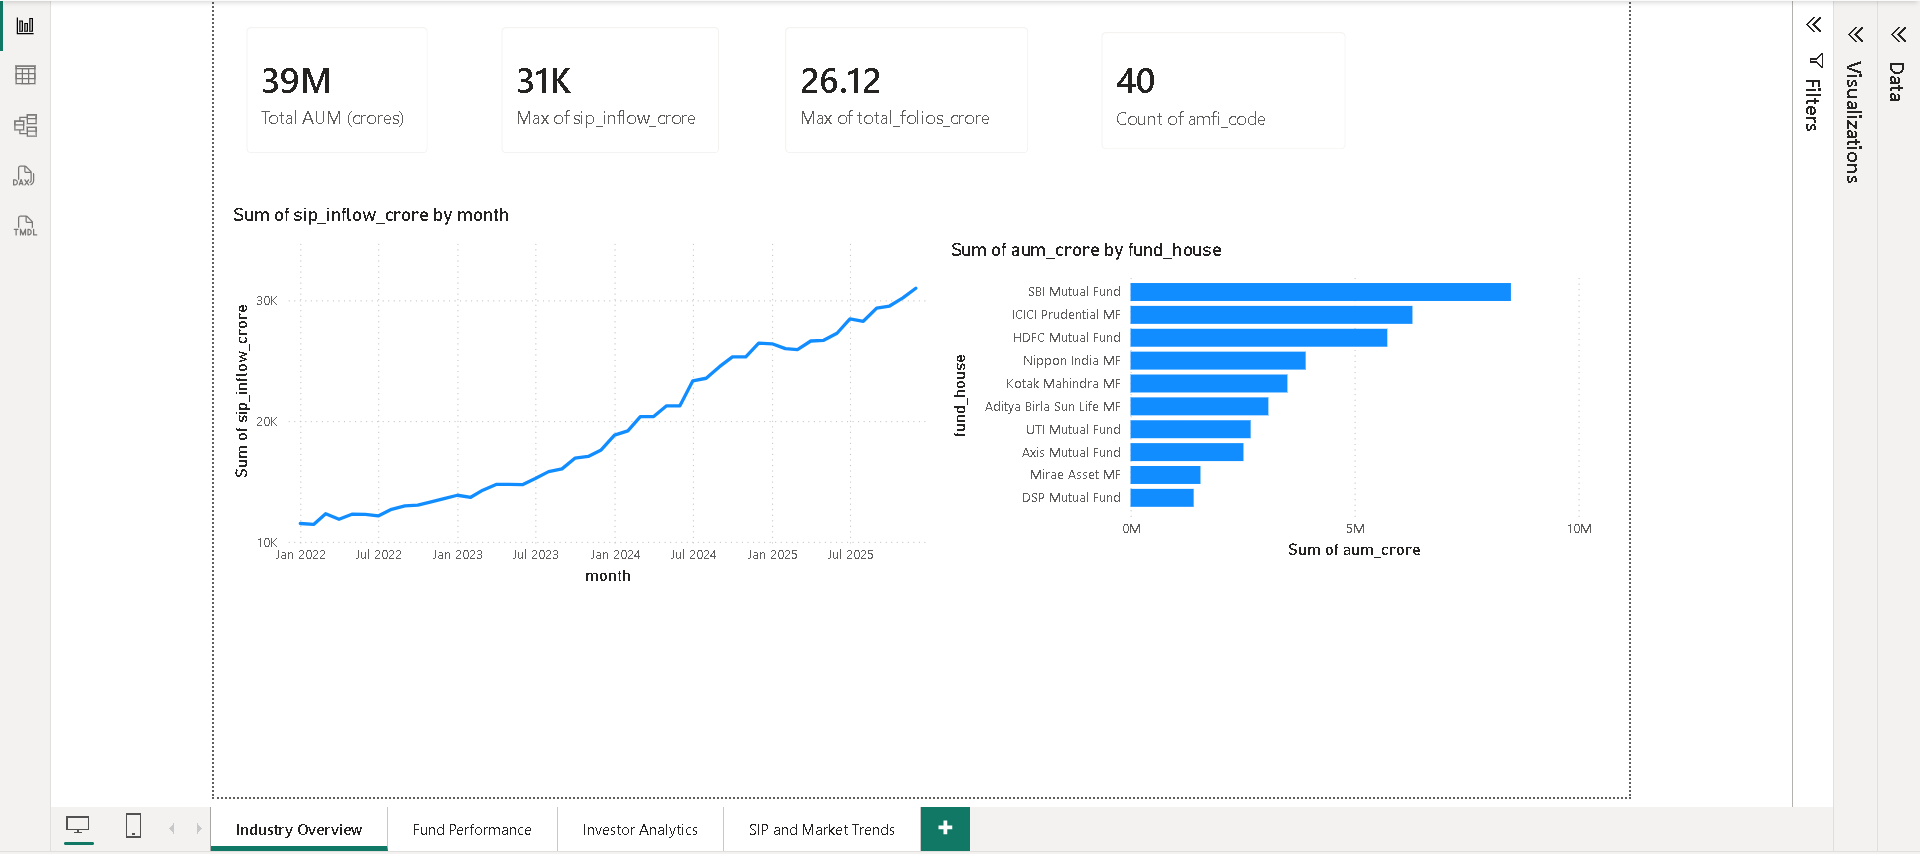

What the dashboard file says about the page in this screenshot:
{"tool":"powerbi","page":{"name":"Industry  Overview","canvas":[1280,720],"ordinal":0},"visuals":[{"type":"cardVisual","fields":{"Data":["Sum(clean_aum_by_fund_house.aum_crore)"]},"box":[12.9,7.1,198.6,148.6],"z":0},{"type":"cardVisual","fields":{"Data":["Max(clean_monthly_sip_inflows.sip_inflow_crore)"]},"box":[242.9,7.1,231.4,148.6],"z":1000},{"type":"cardVisual","fields":{"Data":["Max(clean_industry_folio_count.total_folios_crore)"]},"box":[500,7.1,254.3,148.6],"z":2000},{"type":"lineChart","fields":{"Y":["Sum(clean_monthly_sip_inflows.sip_inflow_crore)"],"Category":["clean_monthly_sip_inflows.month"]},"box":[12.9,182.9,648.6,350],"z":3000},{"type":"clusteredBarChart","fields":{"Category":["clean_aum_by_fund_house.fund_house"],"Y":["Sum(clean_aum_by_fund_house.aum_crore)"]},"box":[661.4,214.3,590,294.3],"z":4000},{"type":"cardVisual","fields":{"Data":["Count(clean_fund_master.amfi_code)"]},"box":[785.7,11.4,255.7,140],"z":5000}]}

Visuals, with their boxes on the page's 1280x720 design canvas (x1, y1, x2, y2). These are canvas units, not pixel positions in the 1920x854 screenshot, which may show the page scaled, cropped or inside an application window:
cardVisual - Sum(clean_aum_by_fund_house.aum_crore): <region>13, 7, 212, 156</region>
cardVisual - Max(clean_monthly_sip_inflows.sip_inflow_crore): <region>243, 7, 474, 156</region>
cardVisual - Max(clean_industry_folio_count.total_folios_crore): <region>500, 7, 754, 156</region>
lineChart - Sum(clean_monthly_sip_inflows.sip_inflow_crore) x clean_monthly_sip_inflows.month: <region>13, 183, 662, 533</region>
clusteredBarChart - clean_aum_by_fund_house.fund_house x Sum(clean_aum_by_fund_house.aum_crore): <region>661, 214, 1251, 509</region>
cardVisual - Count(clean_fund_master.amfi_code): <region>786, 11, 1041, 151</region>
